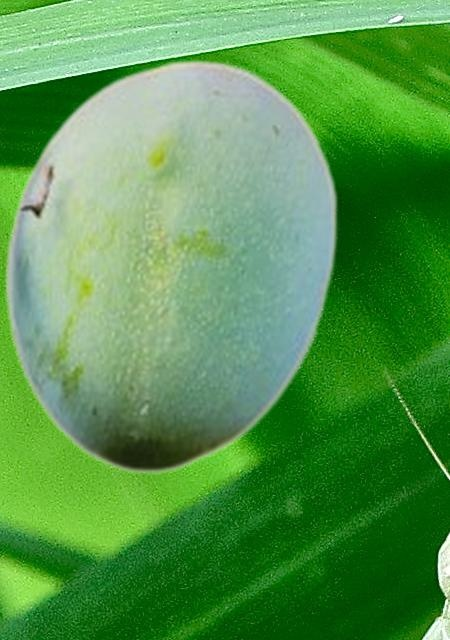green_mango: (3, 58, 338, 473)
